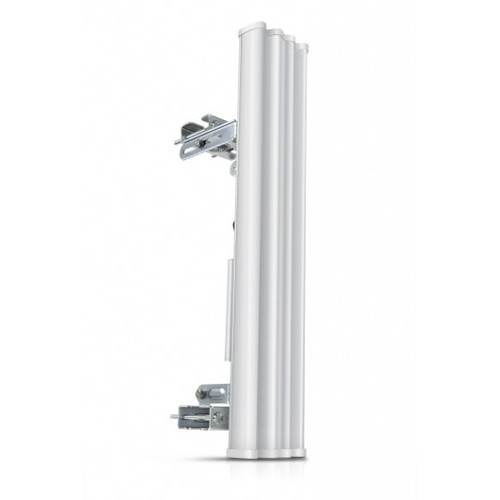sa: (205, 15, 322, 481)
